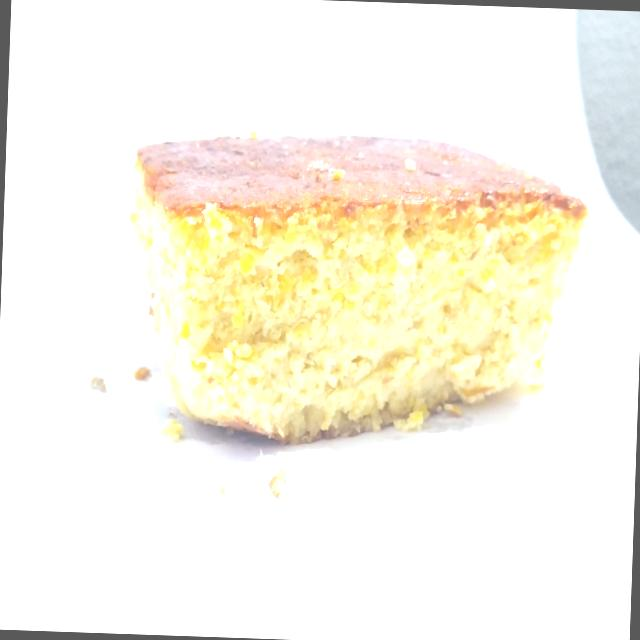Chipa_Guazu: (107, 112, 589, 464)
